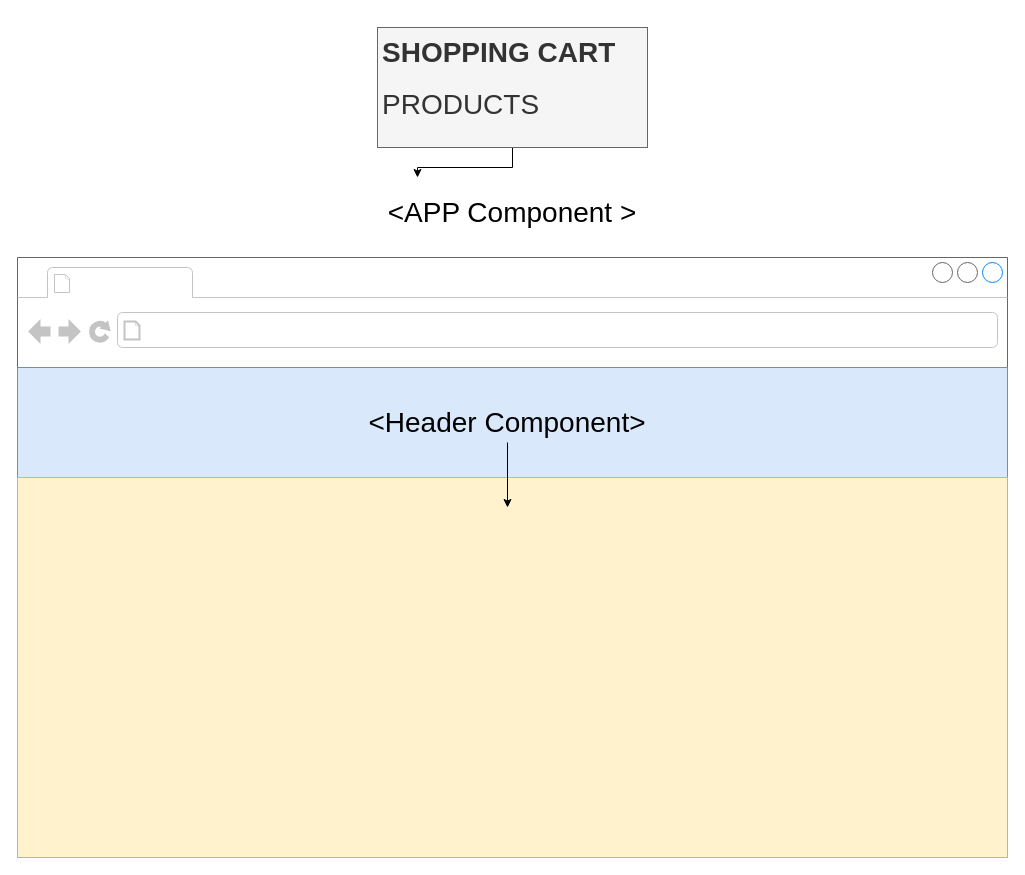
This 1025x875 diagram has some shape labels left out. Here are the shapes that lost their labels. From the top down, the centre of each, then its label:
At point (132, 282): "Page 1".
At point (512, 667): "Conditional Component < Default Component: foodlist> <Cart Component?> <".
